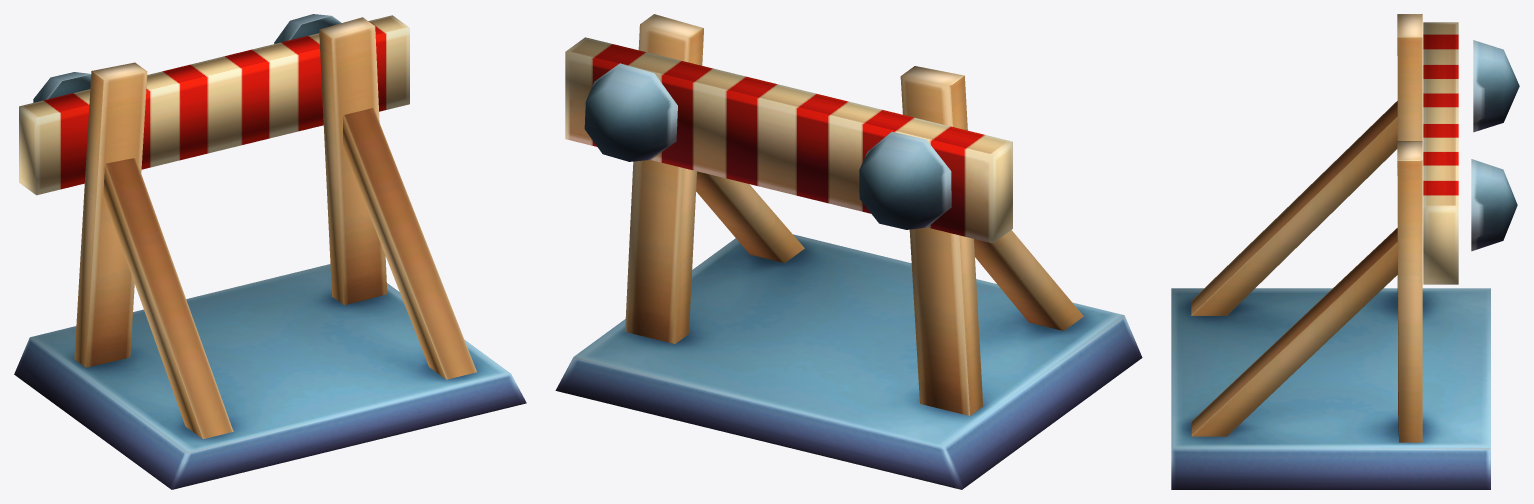
File: BlockerStandard.fbx
3 renders of one model, left to right at view 1: azimuth 30°, elevation 25°; view 2: azimuth 150°, elevation 25°; view 3: azimuth 270°, elevation 25°, orthographic. The views are drawn at different scales.
Parts seen in each view (by area): view 1: Object_2; view 2: Object_2; view 3: Object_2.
Part boxes in pixels (<box>): Object_2: <box>14,14,526,489</box>; Object_2: <box>555,14,1142,489</box>; Object_2: <box>1171,14,1519,489</box>.
Bounding box in the file's own units: 1955 × 1588 × 1559.
Materials: 1 (1 with a texture image).
